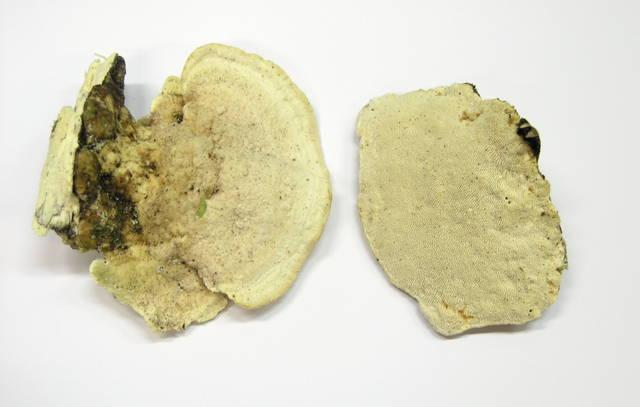poisonous_mushroom: (31, 41, 333, 335), (354, 80, 569, 338)
